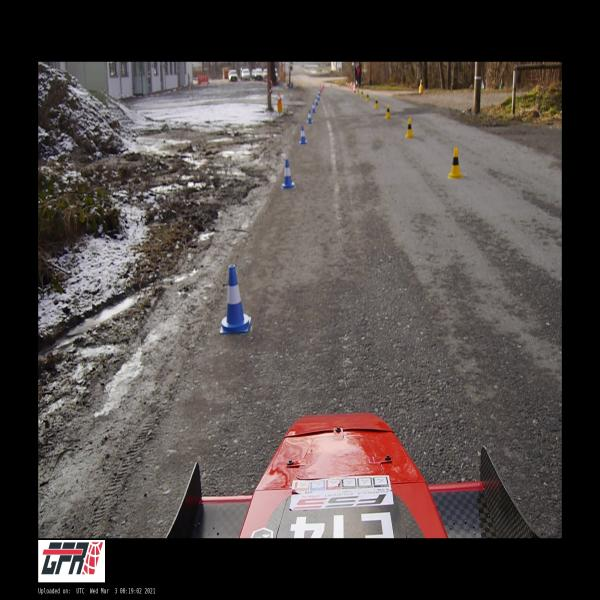blue_cone: (220, 264, 251, 334), (282, 159, 295, 189), (300, 125, 308, 144), (307, 110, 313, 123), (311, 101, 316, 113), (315, 97, 318, 105)
large_orange_cone: (353, 82, 356, 92)
orange_cone: (278, 94, 282, 103)
yellow_cone: (448, 147, 463, 178), (405, 118, 414, 138), (385, 104, 391, 118), (374, 97, 378, 108), (366, 92, 370, 100), (360, 90, 364, 97), (420, 79, 424, 86), (357, 89, 360, 94)
